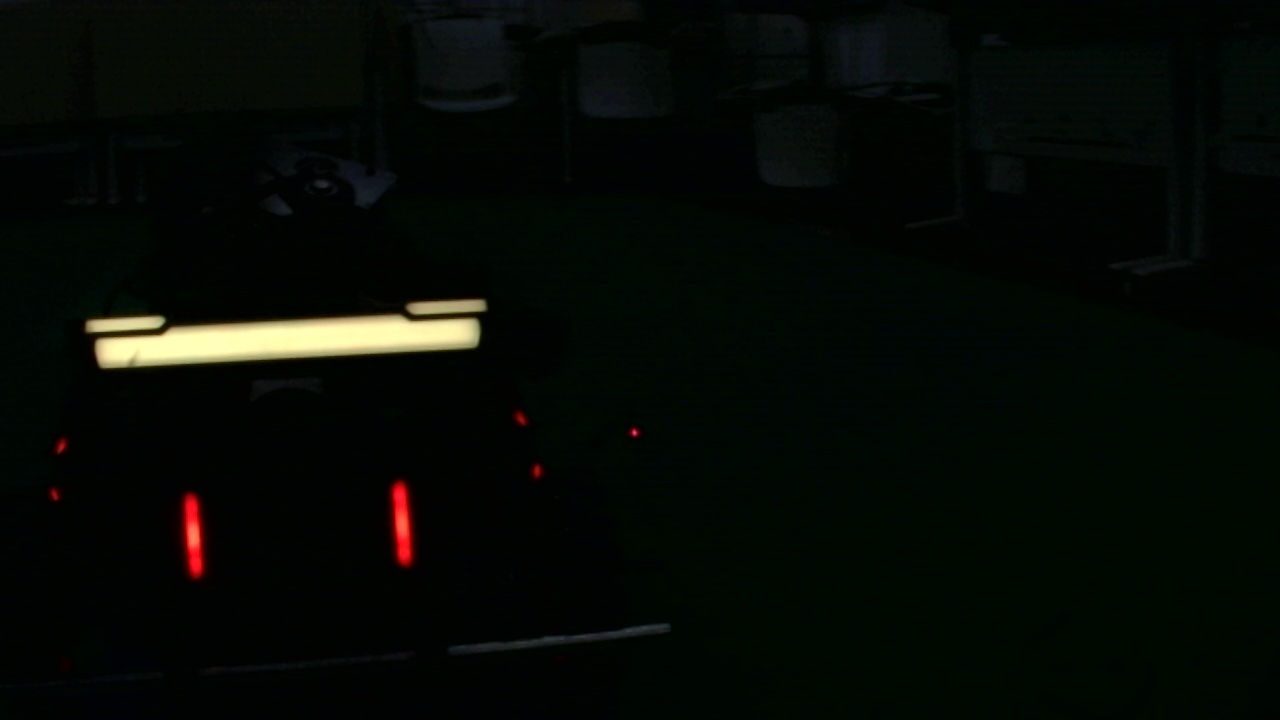lamp: (388, 479, 415, 567), (179, 489, 205, 577)
pair1: (181, 479, 413, 577)
